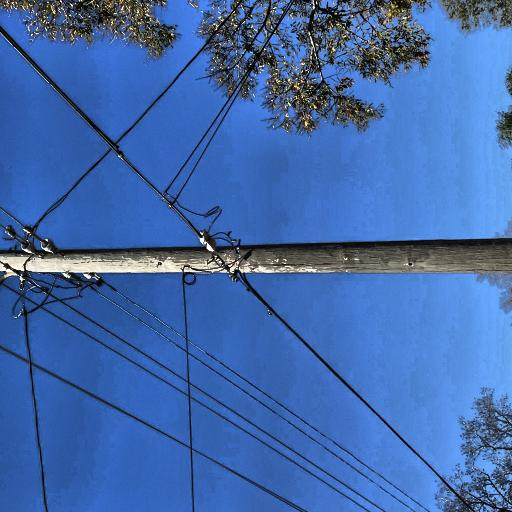pole: (98, 0, 158, 512)
street light: (0, 38, 116, 141)
